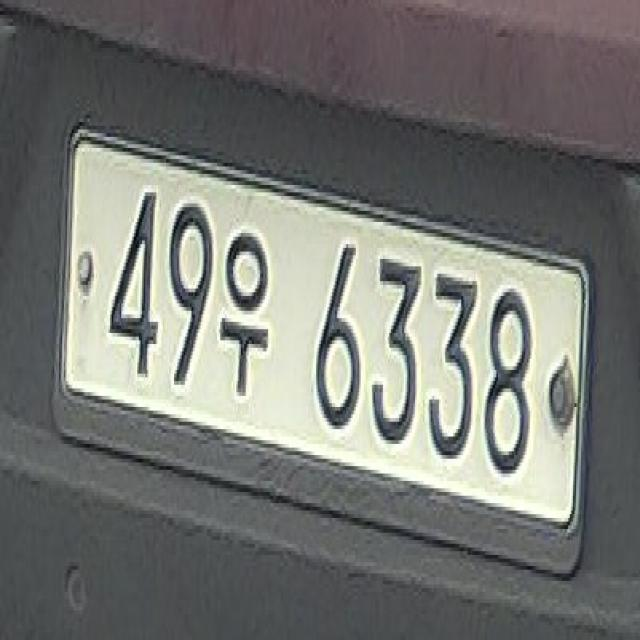3: (368, 253, 422, 453), (428, 266, 476, 470)
4: (108, 180, 159, 382)
6: (318, 236, 360, 437)
8: (484, 276, 536, 482)
9: (170, 195, 214, 400)
license_plate: (50, 102, 598, 605)
u: (218, 224, 275, 406)
